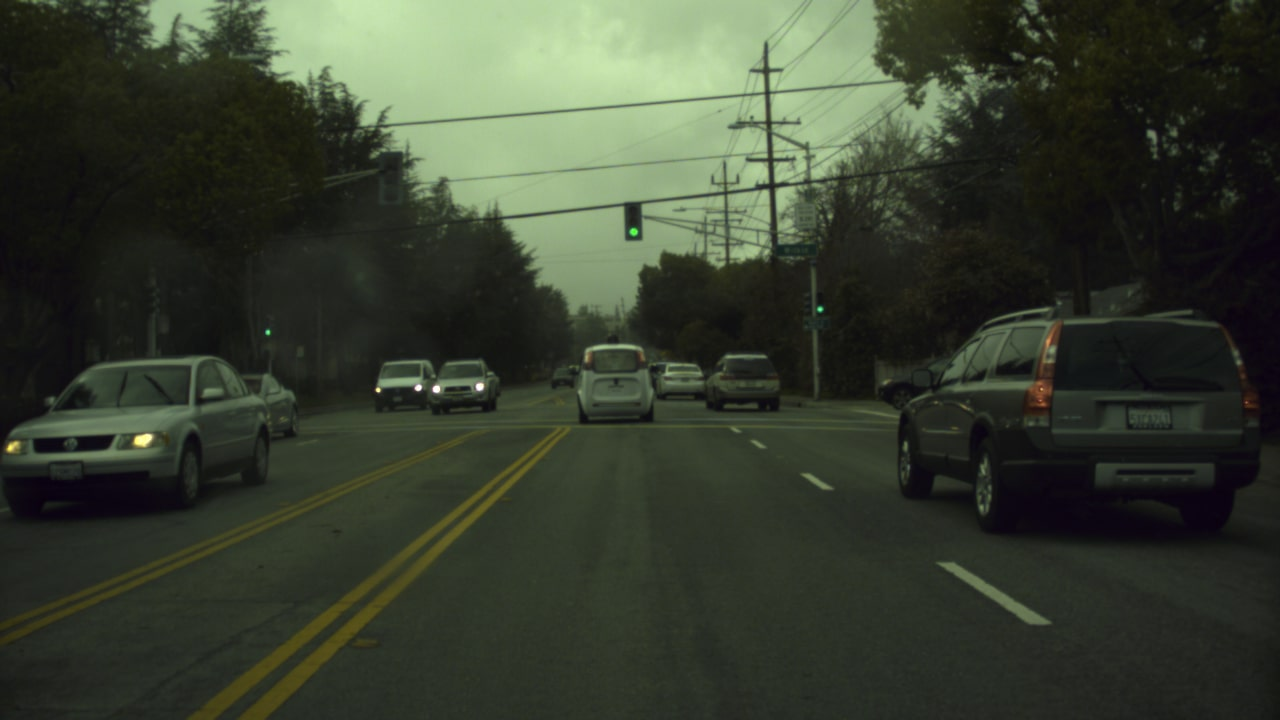signal: (625, 200, 643, 242), (258, 321, 276, 341), (815, 291, 827, 320)
